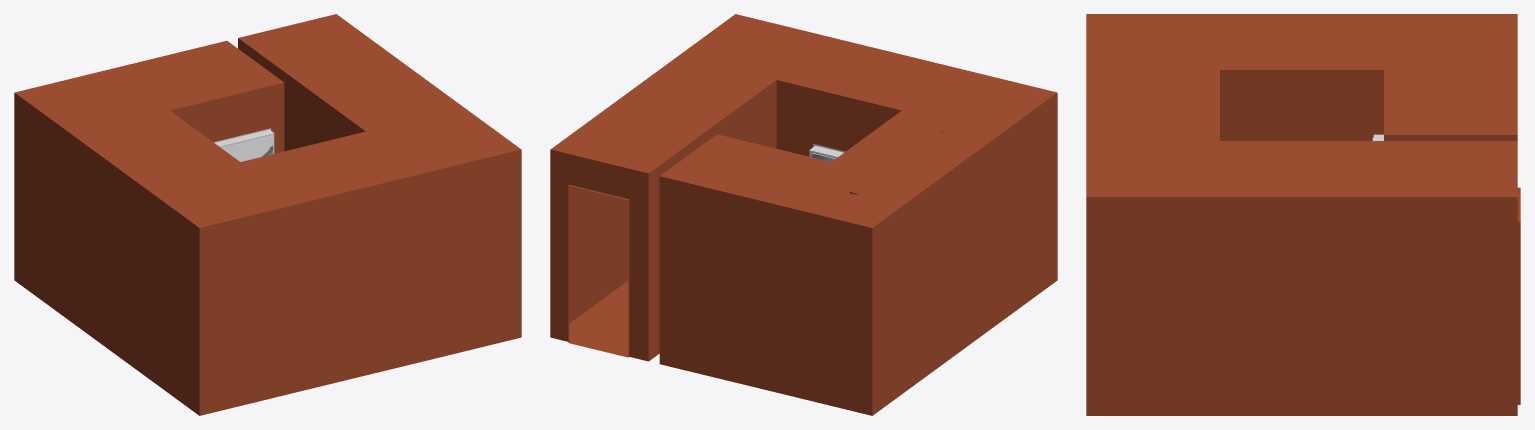
Rendered from room_5_3.glb.
3 views of the same model, side by side, from view 1: azimuth 30°, elevation 25°; view 2: azimuth 150°, elevation 25°; view 3: azimuth 270°, elevation 25° (orthographic). The views are drawn at different scales.
Visible parts, largest first — view 1: cumnata_5_3; view 2: cumnata_5_3; view 3: cumnata_5_3.
Part boxes in pixels (bbox=[...]): cumnata_5_3: bbox=[14, 14, 521, 415]; cumnata_5_3: bbox=[550, 14, 1057, 415]; cumnata_5_3: bbox=[1086, 14, 1520, 415].
Size of what is drawn, in the model's own units: 4.47 by 2.49 by 4.48.
17 materials, 2 textured.
